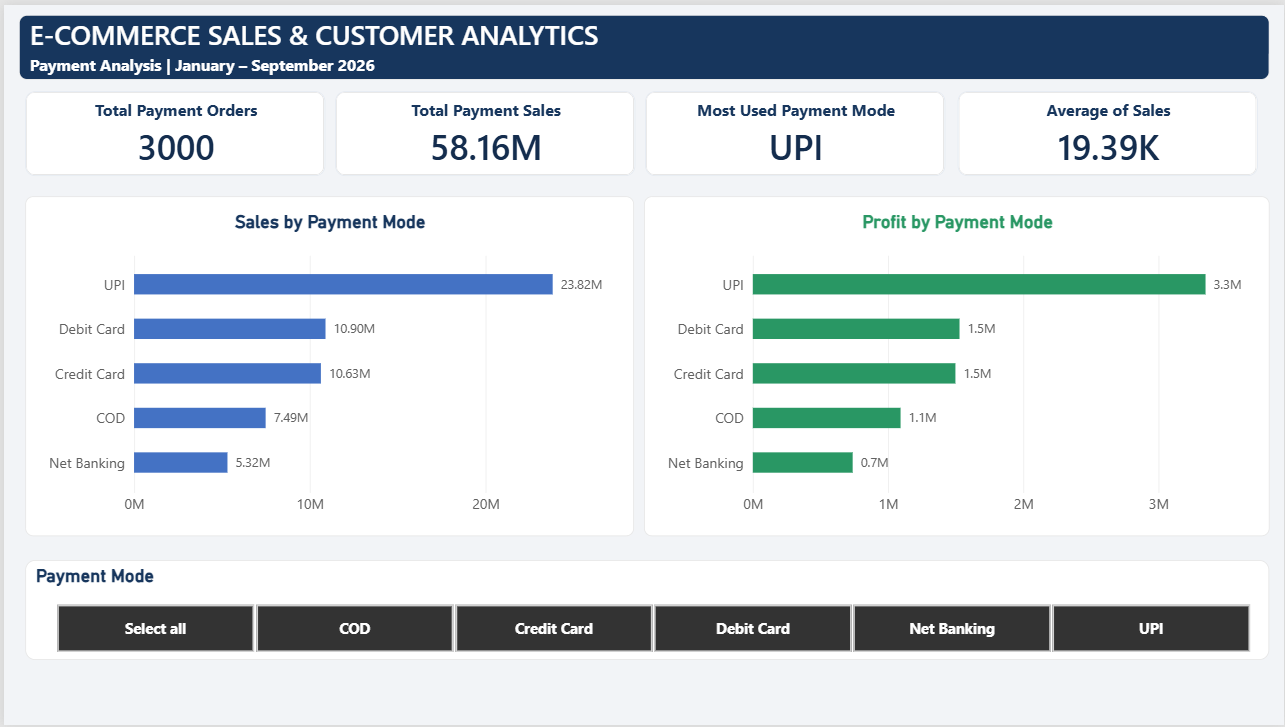

The dashboard page shown, as its layout file describes it:
{"tool":"powerbi","page":{"name":"Payment_Analysis","canvas":[1280,720],"ordinal":3},"visuals":[{"type":"textbox","title":"E-COMMERCE SALES & CUSTOMER ANALYTICS","box":[15,10,1250,65],"z":0},{"type":"cardVisual","fields":{"Data":["ecommerce_sales_cleaned.Total Orders"]},"box":[21.5,86.6,300,85],"z":1000},{"type":"cardVisual","fields":{"Data":["ecommerce_sales_cleaned.Total Sales"]},"box":[331.5,86.9,300,85],"z":2000},{"type":"cardVisual","fields":{"Data":["ecommerce_sales_cleaned.Most Used Payment Mode"]},"box":[641.5,86.9,300,85],"z":3000},{"type":"cardVisual","title":"Total Customers","fields":{"Data":["Avg(ecommerce_sales_cleaned.Sales)"]},"box":[954.3,86.9,300,85],"z":4000},{"type":"clusteredBarChart","title":"Sales by Payment Mode","fields":{"Category":["ecommerce_sales_cleaned.Payment Mode"],"Y":["Sum(ecommerce_sales_cleaned.Sales)"]},"box":[21.8,190.9,608.6,340],"z":5000},{"type":"clusteredBarChart","title":"Profit by Payment Mode","fields":{"Category":["ecommerce_sales_cleaned.Payment Mode"],"Y":["Sum(ecommerce_sales_cleaned.Profit)"]},"box":[640,190.9,625.7,340],"z":6000},{"type":"slicer","title":"Payment Mode","fields":{"Values":["ecommerce_sales_cleaned.Payment Mode"]},"box":[21.8,554.5,1244.3,100],"z":7000}]}

Visuals, with their boxes in screenshot pixels (x1, y1, x2, y2), scaled from the page's 1280x720 canvas onto the 1285x727 screenshot:
"E-COMMERCE SALES & CUSTOMER ANALYTICS" textbox: <box>15,10,1270,76</box>
cardVisual - ecommerce_sales_cleaned.Total Orders: <box>22,87,323,173</box>
cardVisual - ecommerce_sales_cleaned.Total Sales: <box>333,88,634,174</box>
cardVisual - ecommerce_sales_cleaned.Most Used Payment Mode: <box>644,88,945,174</box>
"Total Customers" cardVisual: <box>958,88,1259,174</box>
"Sales by Payment Mode" clusteredBarChart: <box>22,193,633,536</box>
"Profit by Payment Mode" clusteredBarChart: <box>642,193,1271,536</box>
"Payment Mode" slicer: <box>22,560,1271,661</box>
